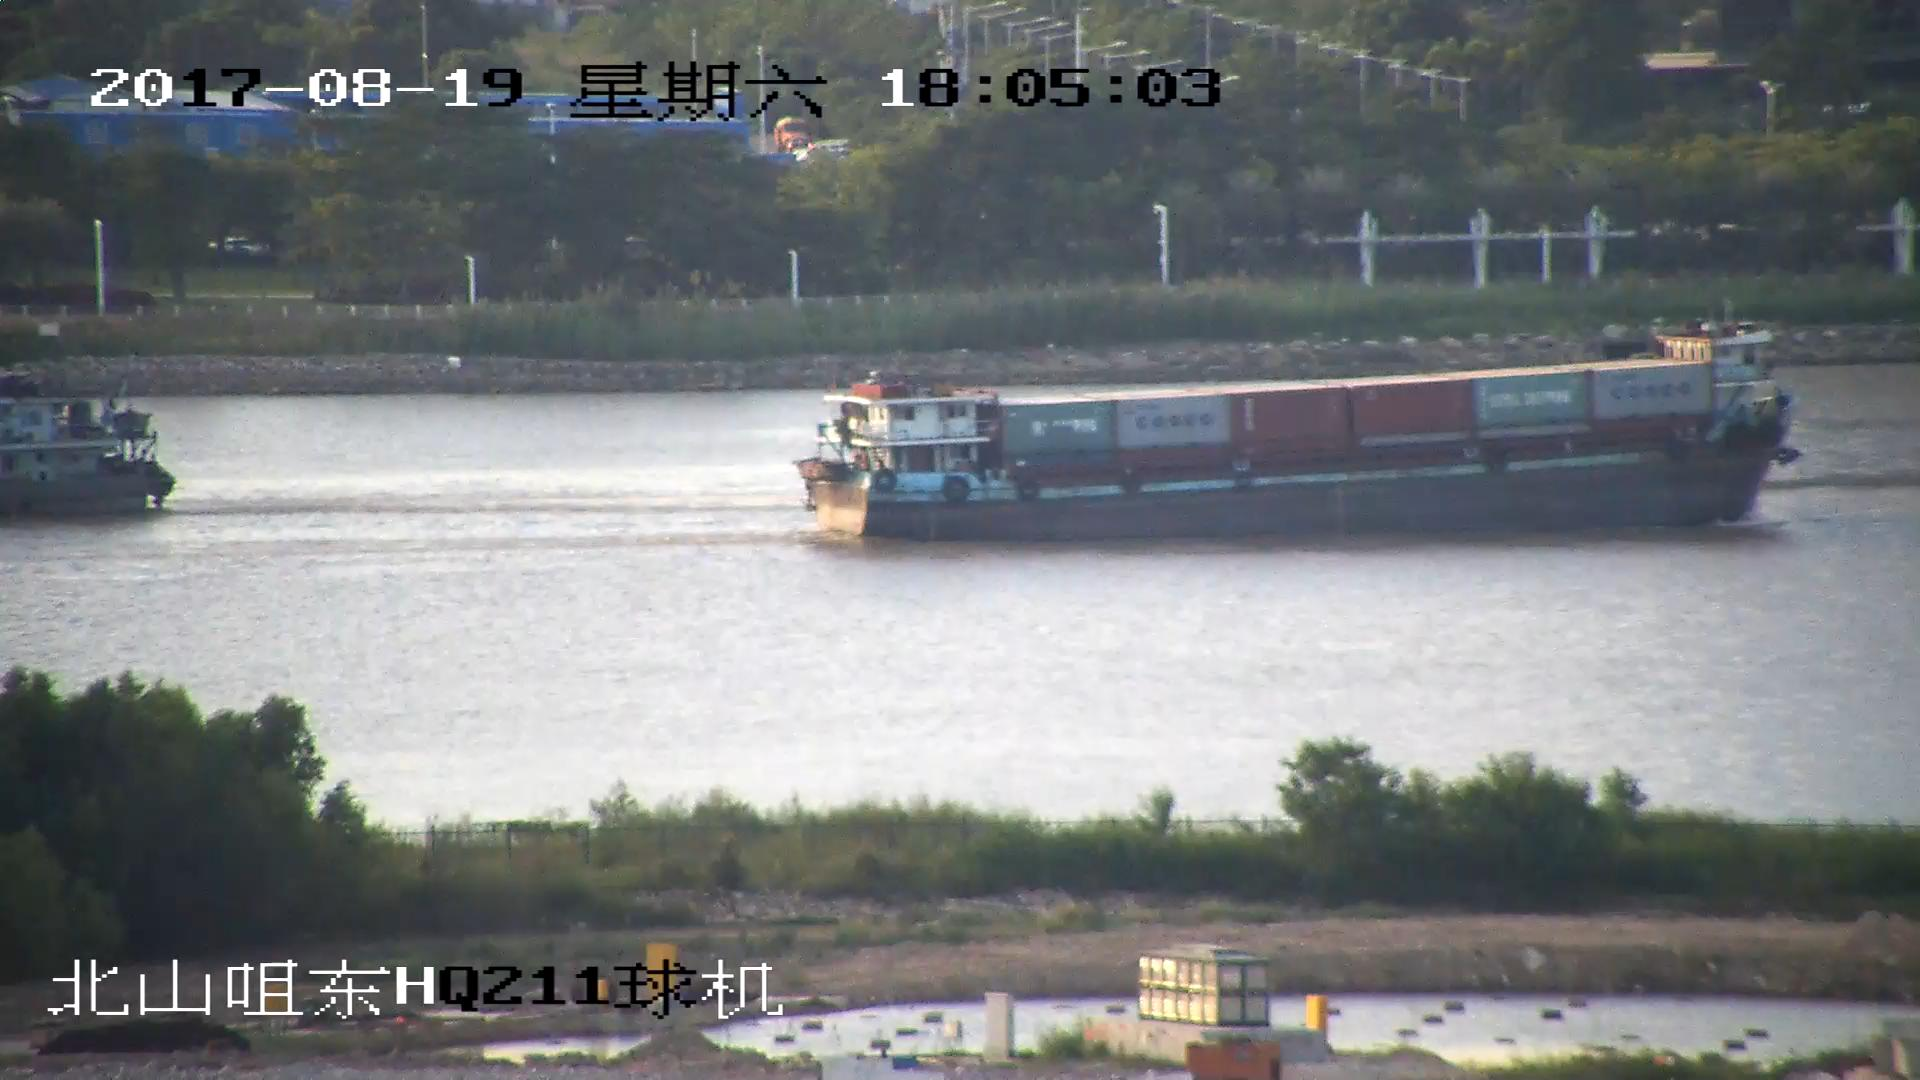container ship: (801, 335, 1797, 543)
